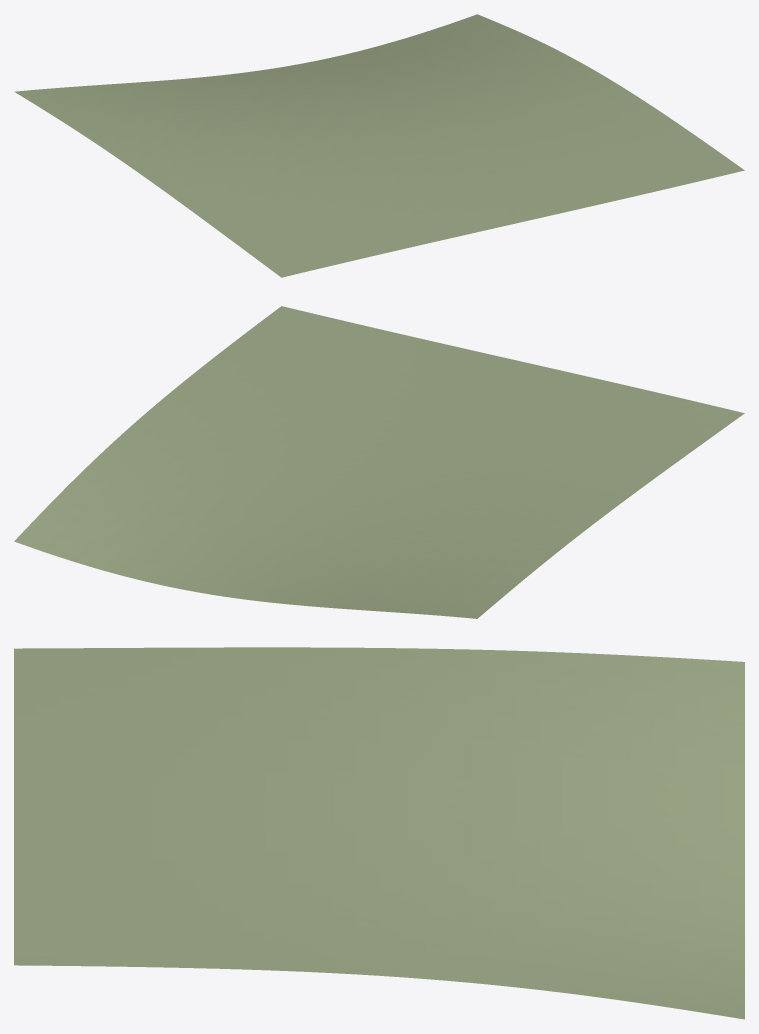
Rendered from expanse-4-31.glb.
The picture shows the model from 3 angles, top to bottom: view 1: azimuth 30°, elevation 25°; view 2: azimuth 150°, elevation 25°; view 3: azimuth 270°, elevation 25°; orthographic projection. The views are drawn at different scales.
Visible parts, largest first — view 1: expanse-4-31; view 2: expanse-4-31; view 3: expanse-4-31.
Boxes of the visible parts, <box> form: expanse-4-31: <box>14,14,744,277</box>; expanse-4-31: <box>14,306,744,618</box>; expanse-4-31: <box>14,647,744,1019</box>.
Size of the model in its own units: 256 by 28.65 by 256.
